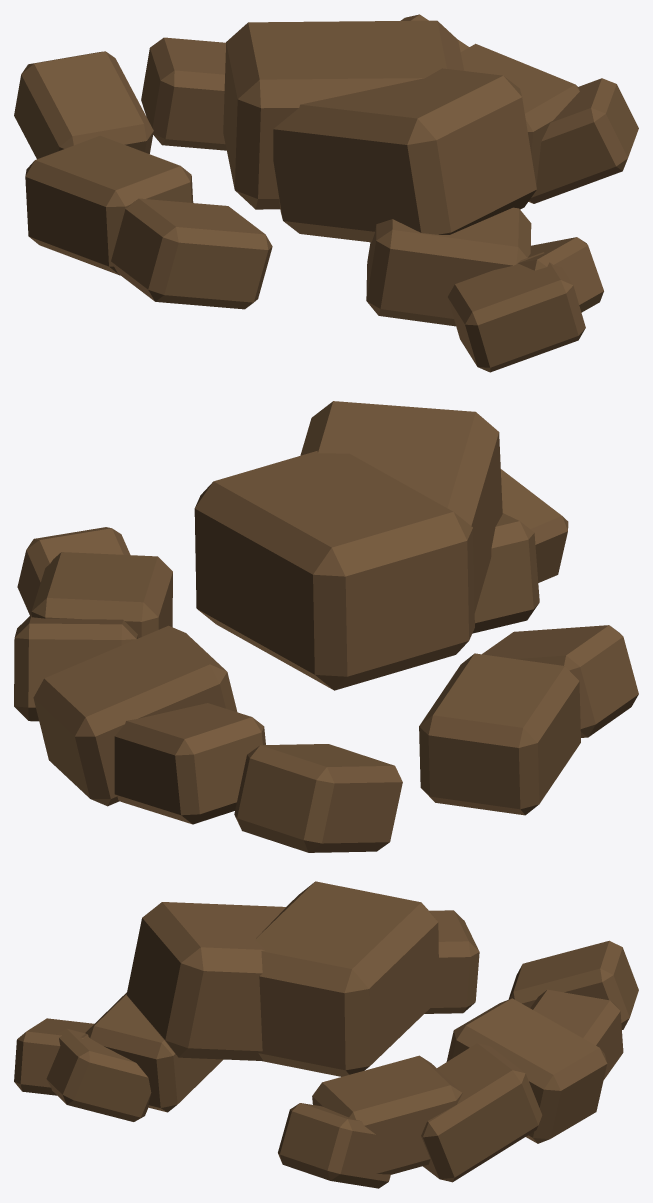
Rendered from prop_rubbleundefined_d95d.glb.
The picture shows the model from 3 angles, top to bottom: view 1: azimuth 30°, elevation 25°; view 2: azimuth 150°, elevation 25°; view 3: azimuth 270°, elevation 25°; orthographic projection. The views are drawn at different scales.
Parts seen in each view (by area): view 1: prop_rubbleundefined_d95d; view 2: prop_rubbleundefined_d95d; view 3: prop_rubbleundefined_d95d.
Boxes of the visible parts, bbox=[...] form: prop_rubbleundefined_d95d: bbox=[14, 14, 638, 372]; prop_rubbleundefined_d95d: bbox=[14, 401, 638, 852]; prop_rubbleundefined_d95d: bbox=[14, 881, 638, 1188].
Bounding box in the file's own units: 0.8354 × 0.309 × 0.9699.
Materials: 1 (1 with a texture image).
